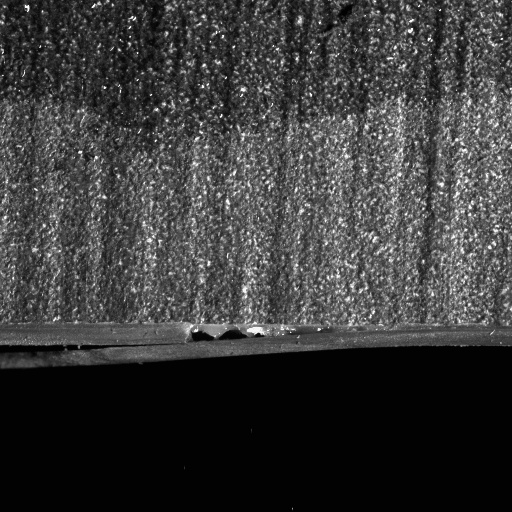kaijiao: (0, 319, 356, 368)
